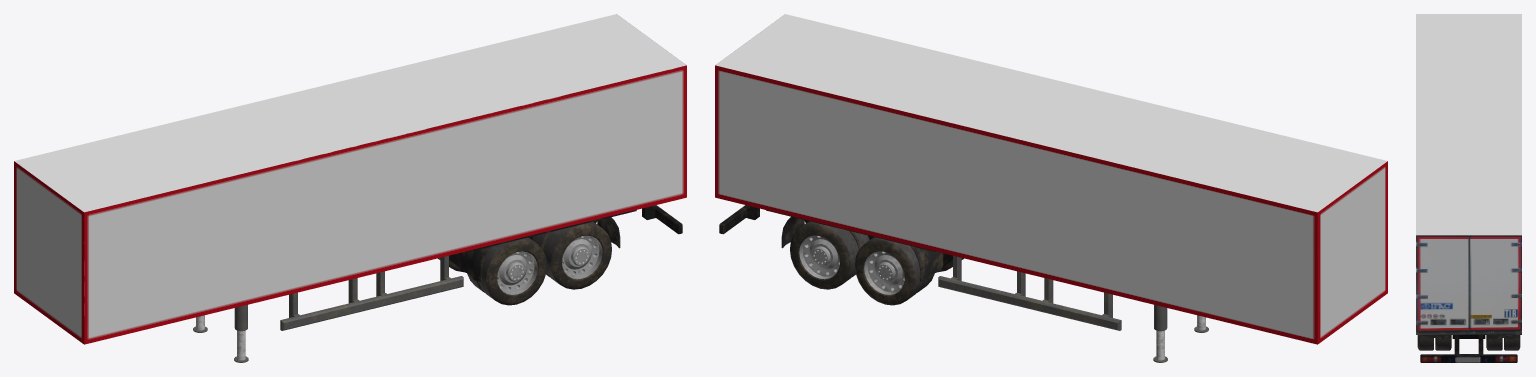
The model's file is Trailer_Baked 2k.fbx.
3 views of the same model, side by side, from view 1: azimuth 30°, elevation 25°; view 2: azimuth 150°, elevation 25°; view 3: azimuth 270°, elevation 25° (orthographic). The views are drawn at different scales.
Parts seen in each view (by area): view 1: Trailer_Baked 2k; view 2: Trailer_Baked 2k; view 3: Trailer_Baked 2k.
Part boxes in pixels (left/top/right/bottom): Trailer_Baked 2k: left=14, top=14, right=686, bottom=362; Trailer_Baked 2k: left=715, top=14, right=1387, bottom=362; Trailer_Baked 2k: left=1416, top=14, right=1521, bottom=362.
Bounding box in the file's own units: 1264 × 401 × 255.
